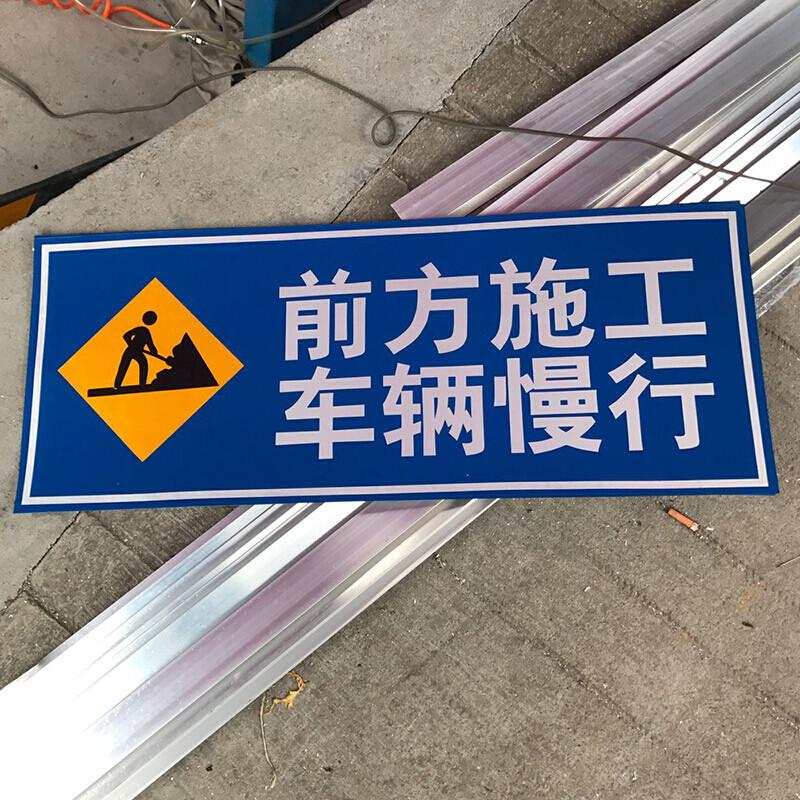sign: (31, 234, 760, 498)
